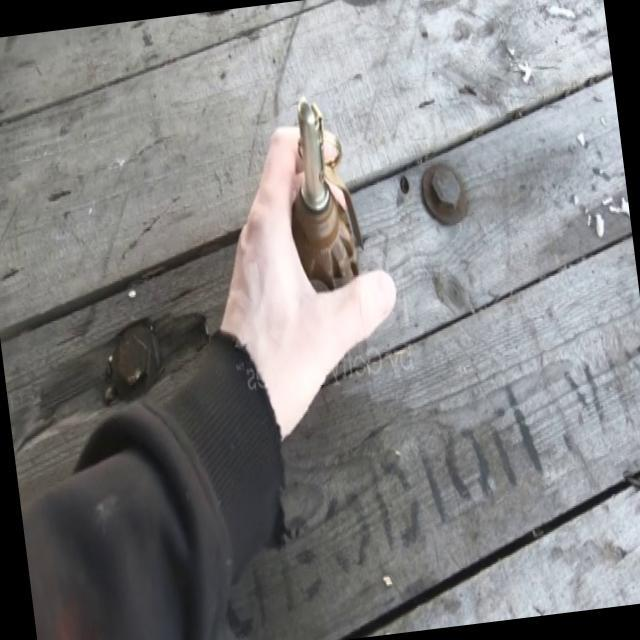grenade: (275, 81, 365, 292)
